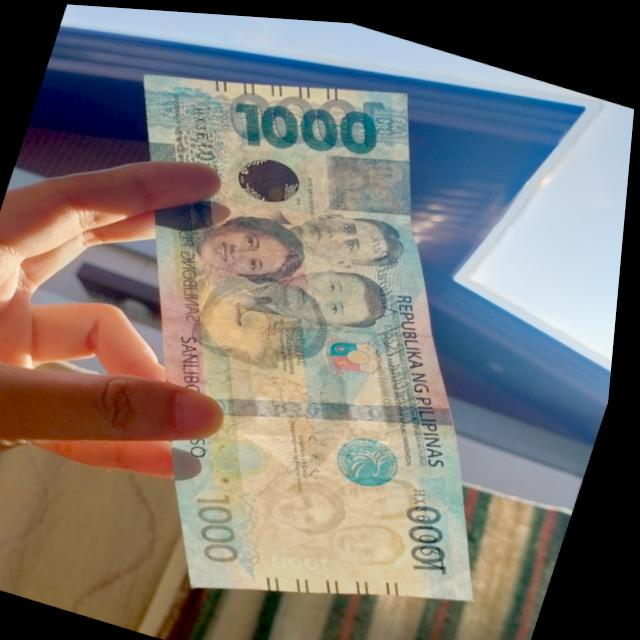concealed_value: (326, 147, 413, 208)
optically_variable_device: (229, 143, 313, 205)
security_thread: (217, 391, 459, 418)
see_through_mark: (237, 481, 272, 565)
serial_number: (398, 473, 481, 567), (177, 95, 233, 160)
value: (230, 92, 384, 149)
value_watermark: (277, 546, 346, 568)
watermark: (260, 465, 437, 563)
